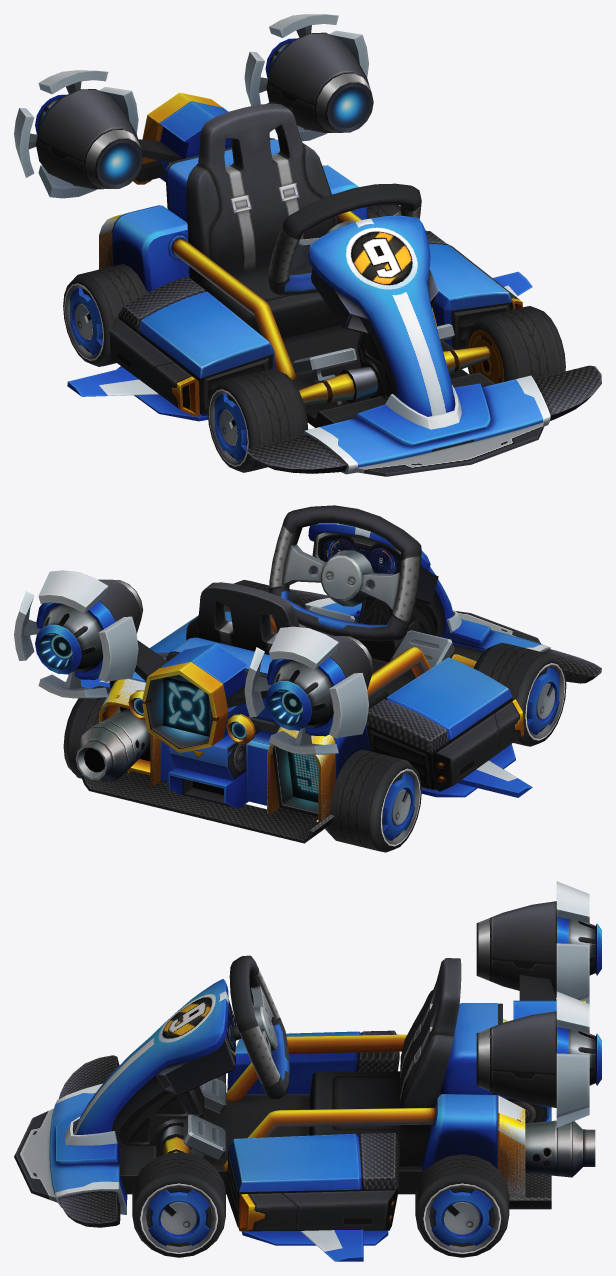
File: my-kart.glb
The picture shows the model from 3 angles, top to bottom: view 1: azimuth 30°, elevation 25°; view 2: azimuth 150°, elevation 25°; view 3: azimuth 270°, elevation 25°; orthographic projection. The views are drawn at different scales.
Parts seen in each view (by area): view 1: WIRE_r_0128, WIRE_r_0128_fr, WIRE_r_0128_fl, WIRE_r_0128_fr.001; view 2: WIRE_r_0128, WIRE_r_0128_fr.001, WIRE_r_0128_fr, WIRE_r_0128_fl.001; view 3: WIRE_r_0128, WIRE_r_0128_fl, WIRE_r_0128_fl.001.
Boxes of the visible parts, x1,y1,x2,y2 form: WIRE_r_0128: [14, 14, 601, 476]; WIRE_r_0128_fr: [207, 369, 308, 472]; WIRE_r_0128_fl: [465, 306, 565, 383]; WIRE_r_0128_fr.001: [63, 264, 148, 366]; WIRE_r_0128: [14, 505, 601, 843]; WIRE_r_0128_fr.001: [325, 749, 421, 852]; WIRE_r_0128_fr: [473, 642, 566, 746]; WIRE_r_0128_fl.001: [63, 685, 130, 778]; WIRE_r_0128: [14, 881, 601, 1261]; WIRE_r_0128_fl: [132, 1152, 225, 1257]; WIRE_r_0128_fl.001: [415, 1154, 509, 1257].
Size of the model in its own units: 1.69 by 0.8849 by 1.95.
1 material, 1 textured.
